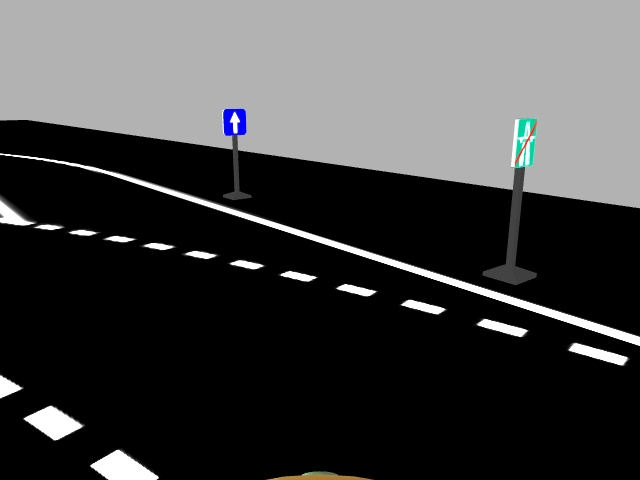HighwayExit: (508, 113, 540, 173)
OneWay: (218, 106, 248, 136)
